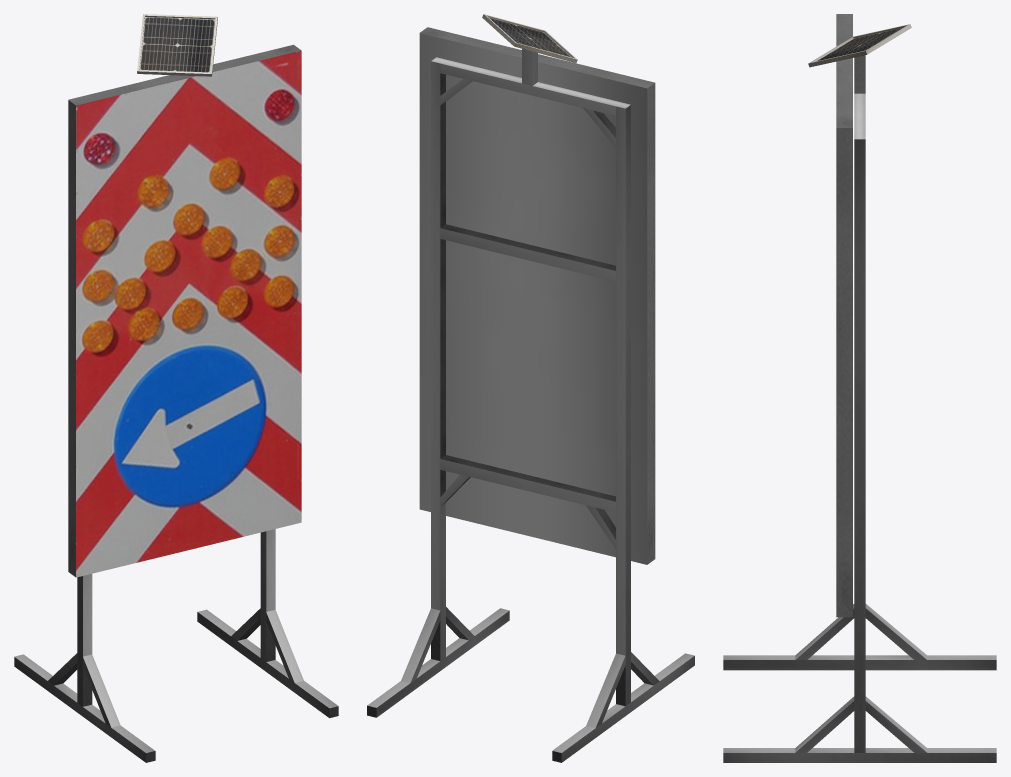
The picture shows the model from 3 angles, left to right: view 1: azimuth 30°, elevation 25°; view 2: azimuth 150°, elevation 25°; view 3: azimuth 270°, elevation 25°; orthographic projection. The views are drawn at different scales.
Parts seen in each view (by area): view 1: MainBuilding; view 2: MainBuilding; view 3: MainBuilding.
Boxes of the visible parts, x1,y1,x2,y2 form: MainBuilding: (14,14,338,762); MainBuilding: (367,14,694,762); MainBuilding: (723,14,996,762).
Size of the model in its own units: 1.2 by 3.36 by 1.22.
1 material, 1 textured.
